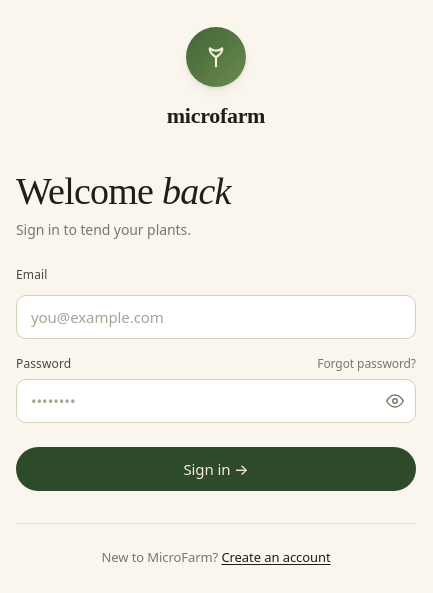
it: LoginPage › shows error when email format is invalid
Type "notanemail" into the field labelled "Email" at [216, 317], box [16, 295, 416, 339]
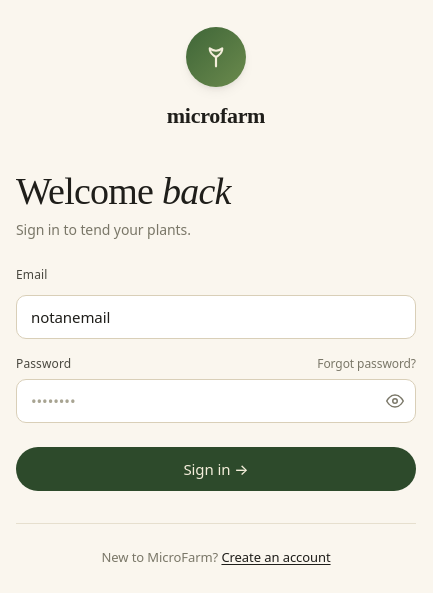
Type "secret" into the password field labelled "Password" at [216, 401], box [16, 379, 416, 423]
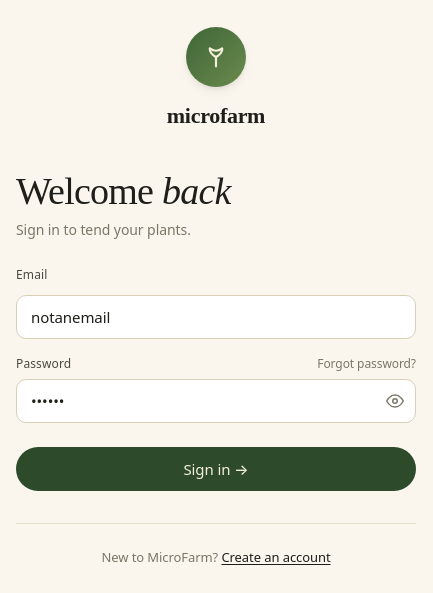
Click the button "Sign in →" at [216, 469], box [16, 447, 416, 491]
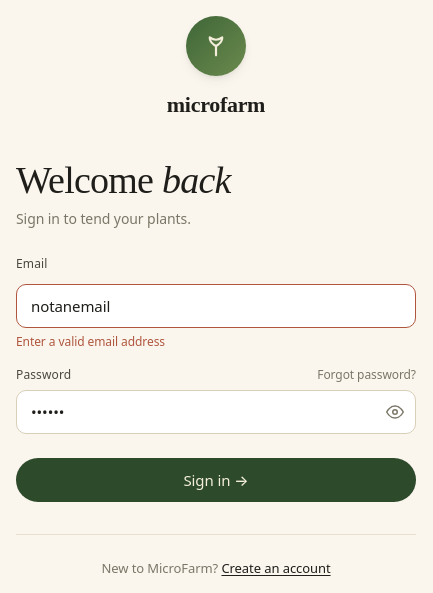
Check: the text "Enter a valid email address" is shown, box [16, 333, 165, 350]
